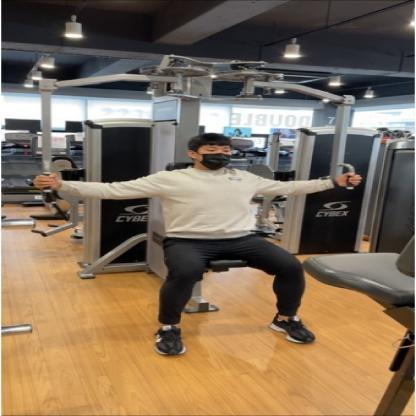chest fly machine: (7, 47, 416, 368)
